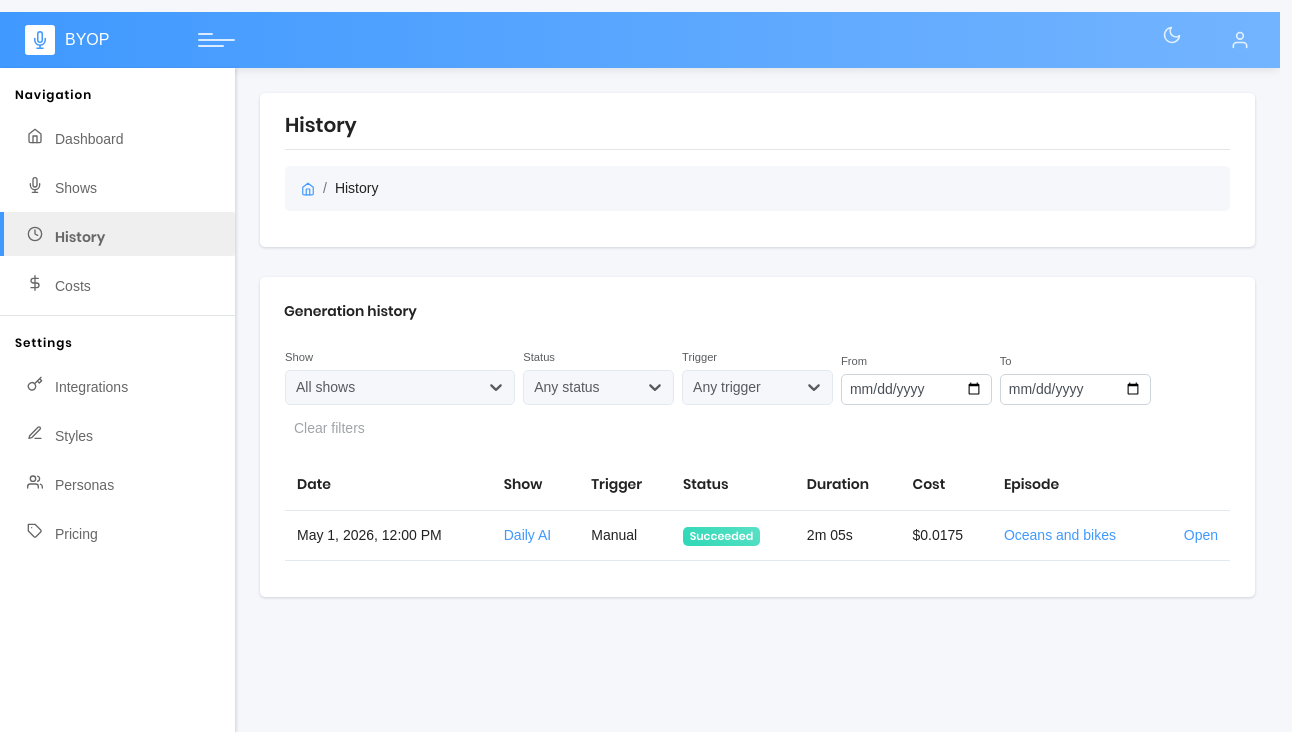
Test case: history page › says so when no run matches the filters
The width and height of the screenshot is (1292, 732).
expect the link "Oceans and bikes" is shown: met, box [1004,527,1116,543]
Click the dropdown labelled "Status" at (536, 387), box [534,377,538,398]
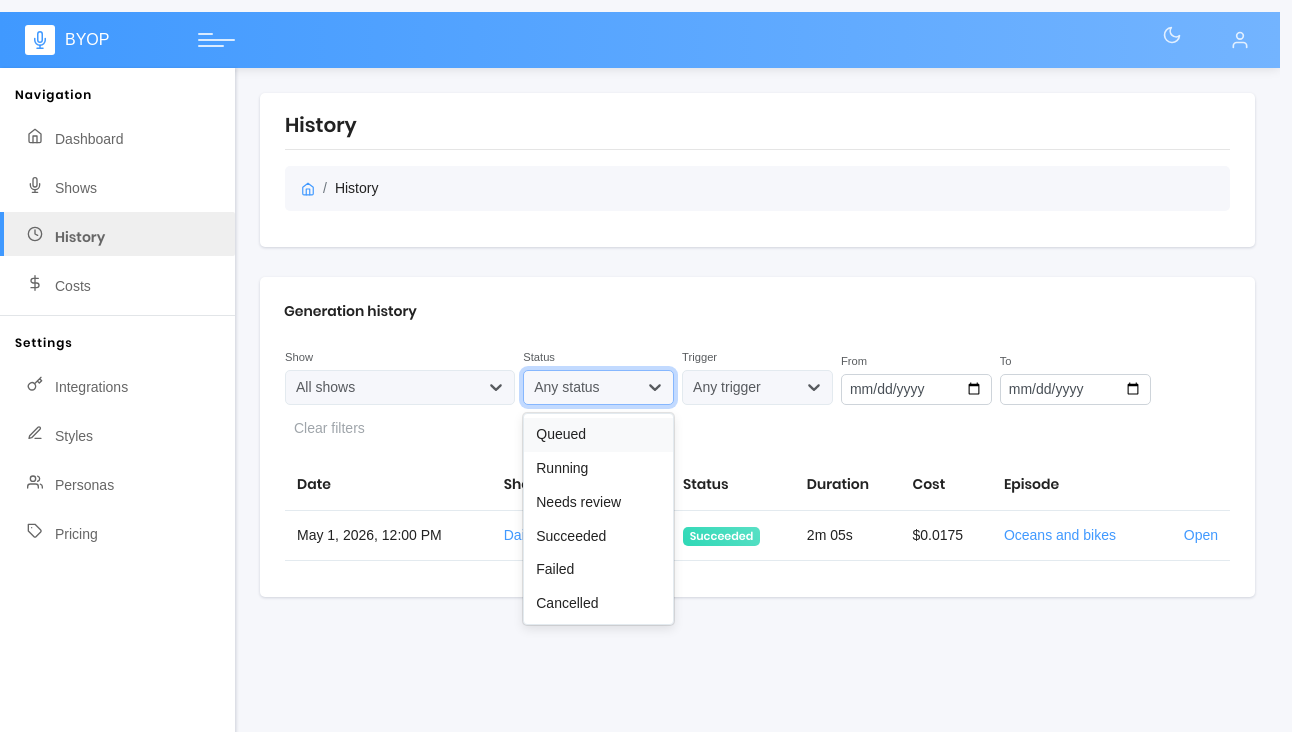
Click the option "Cancelled" at (567, 603), box [536,595,599,611]
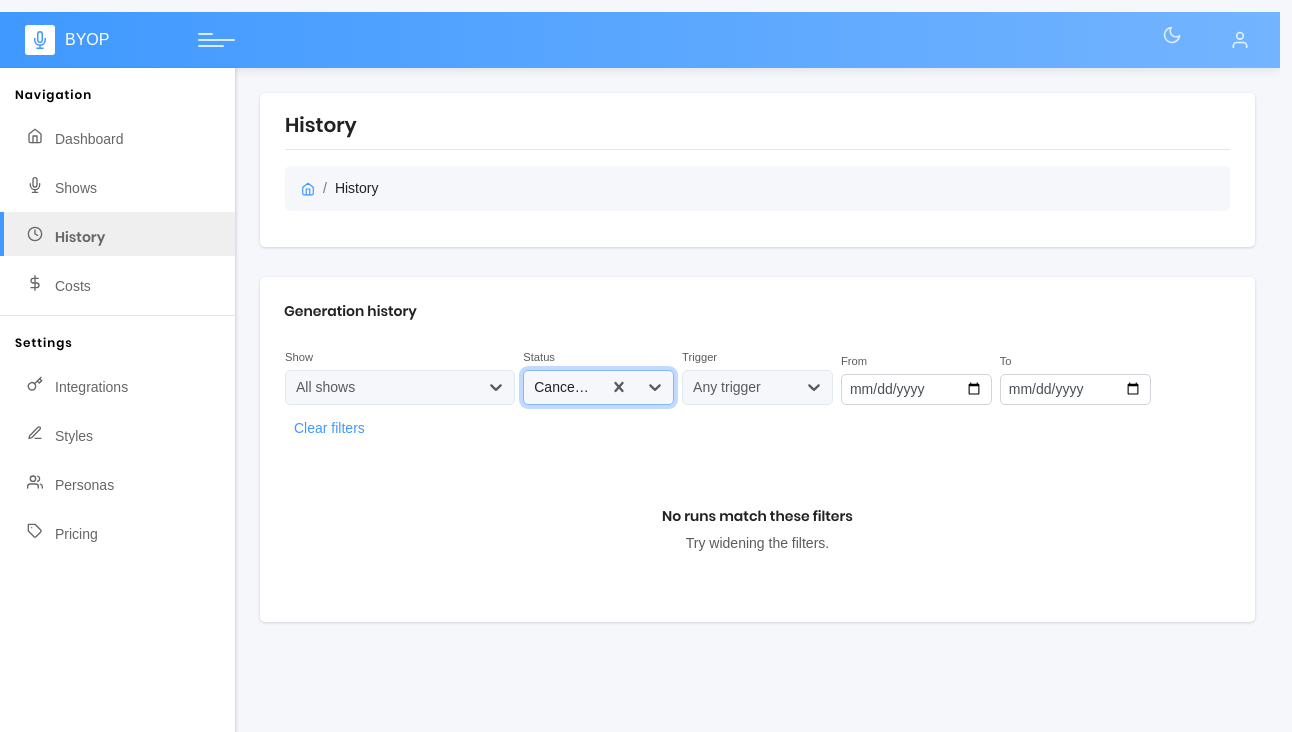
expect the heading "No runs match these filters" is shown: met, box [662,506,853,526]
